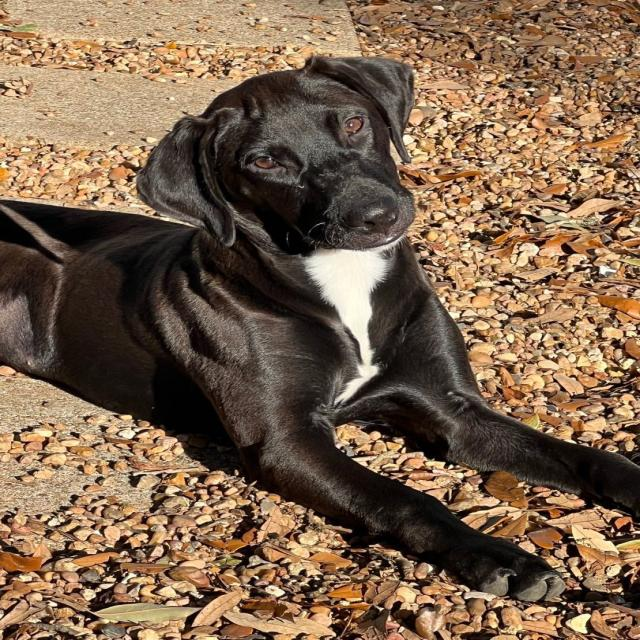labrador_retriever_dog: (130, 40, 457, 298)
